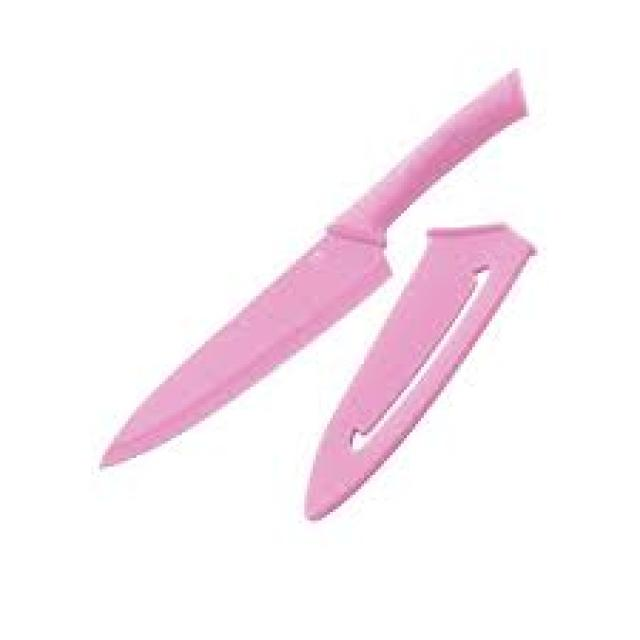knives: (94, 60, 532, 475), (296, 216, 540, 526)
